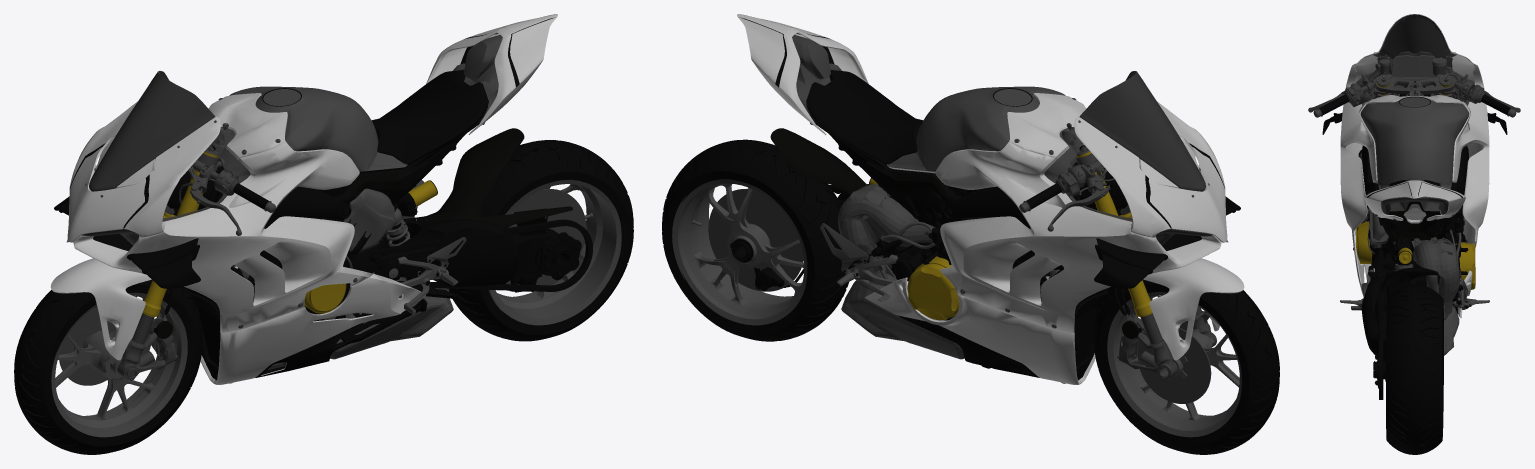
Rendered from moto.glb.
The picture shows the model from 3 angles, left to right: view 1: azimuth 30°, elevation 25°; view 2: azimuth 150°, elevation 25°; view 3: azimuth 270°, elevation 25°; orthographic projection. The views are drawn at different scales.
Parts seen in each view (by area): view 1: Object_3, Object_22, Object_25; view 2: Object_3, Object_22, Object_25; view 3: Object_3, Object_22, Object_25.
Part boxes in pixels (x1,y1,x2,y2): Object_3: (14,14,633,454); Object_22: (81,71,407,344); Object_25: (153,74,572,338); Object_3: (662,14,1279,454); Object_22: (887,71,1212,344); Object_25: (770,74,1141,338); Object_3: (1308,14,1520,454); Object_22: (1360,14,1469,214); Object_25: (1366,96,1463,340).
Size of the model in its own units: 535 by 302 by 199.
3 materials, 3 textured.
